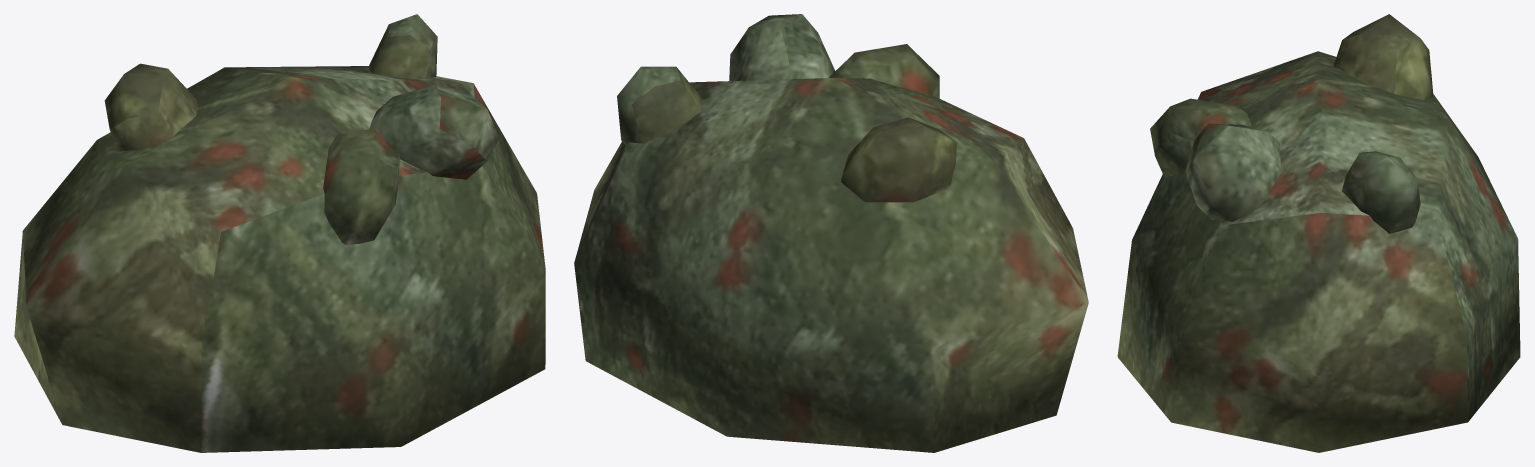
File: BUISSON.glb
3 renders of one model, left to right at view 1: azimuth 30°, elevation 25°; view 2: azimuth 150°, elevation 25°; view 3: azimuth 270°, elevation 25°, orthographic. The views are drawn at different scales.
Parts seen in each view (by area): view 1: Cube.003; view 2: Cube.003; view 3: Cube.003.
Boxes of the visible parts, x1=… form: Cube.003: x1=14, y1=14, x2=545, y2=452; Cube.003: x1=574, y1=14, x2=1088, y2=452; Cube.003: x1=1117, y1=14, x2=1520, y2=452.
Size of the model in its own units: 1.81 by 1.13 by 1.32.
Materials: 1 (1 with a texture image).
